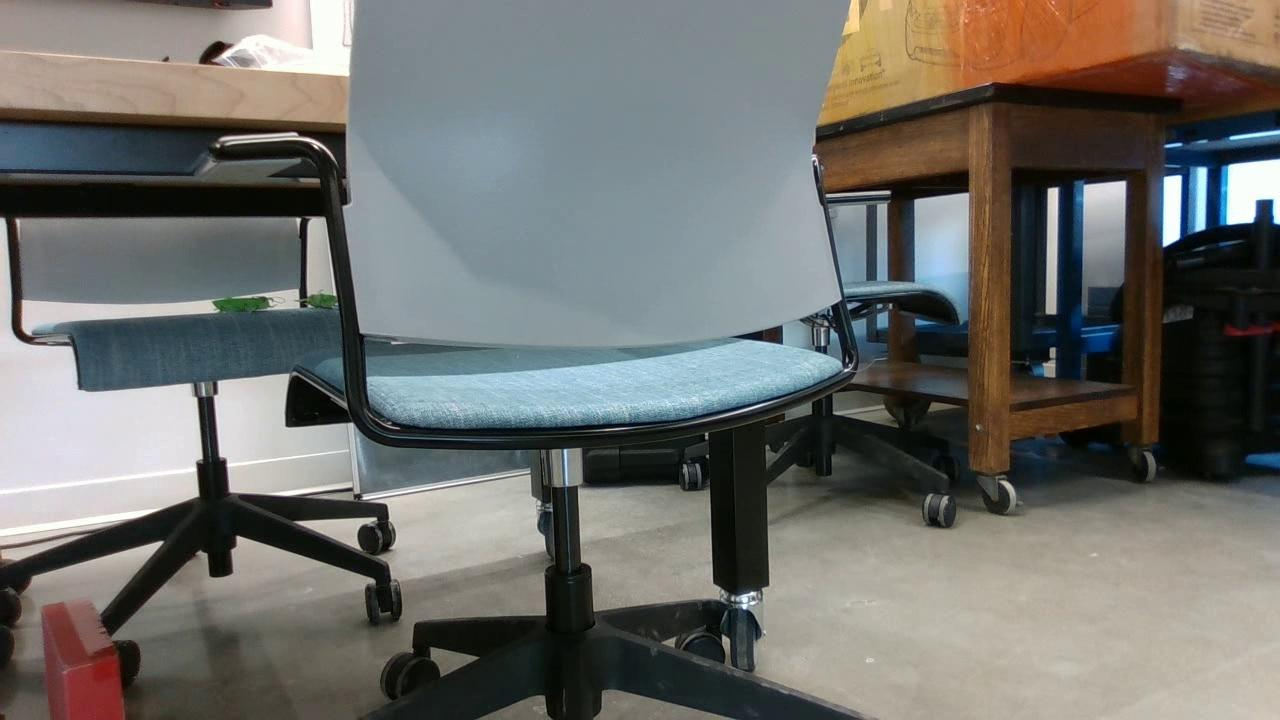grasshopper: (294, 290, 339, 312), (214, 296, 272, 312)
